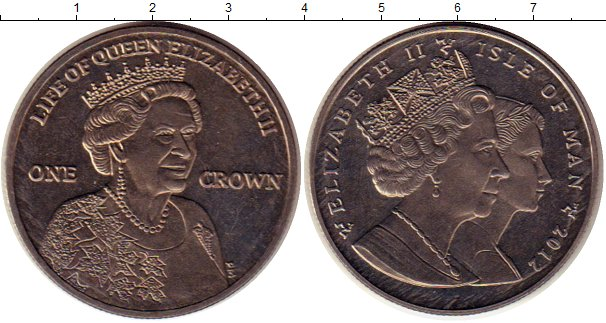coin: (305, 22, 605, 323), (8, 22, 301, 323)
